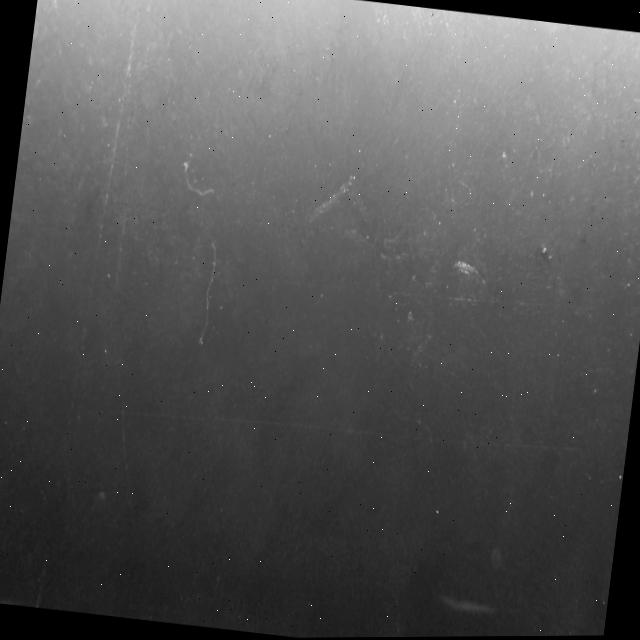beta: (52, 0, 146, 505), (99, 385, 153, 540), (197, 236, 220, 346), (405, 325, 435, 391), (178, 157, 219, 197)
